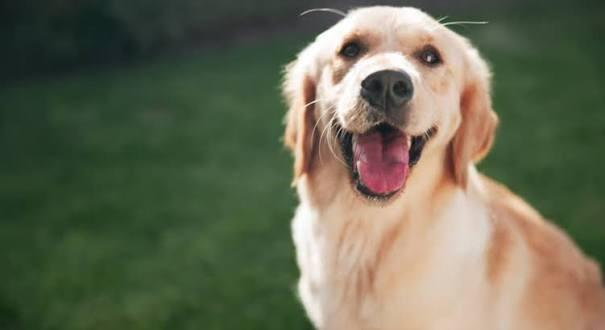adult_dog: (284, 5, 605, 330)
